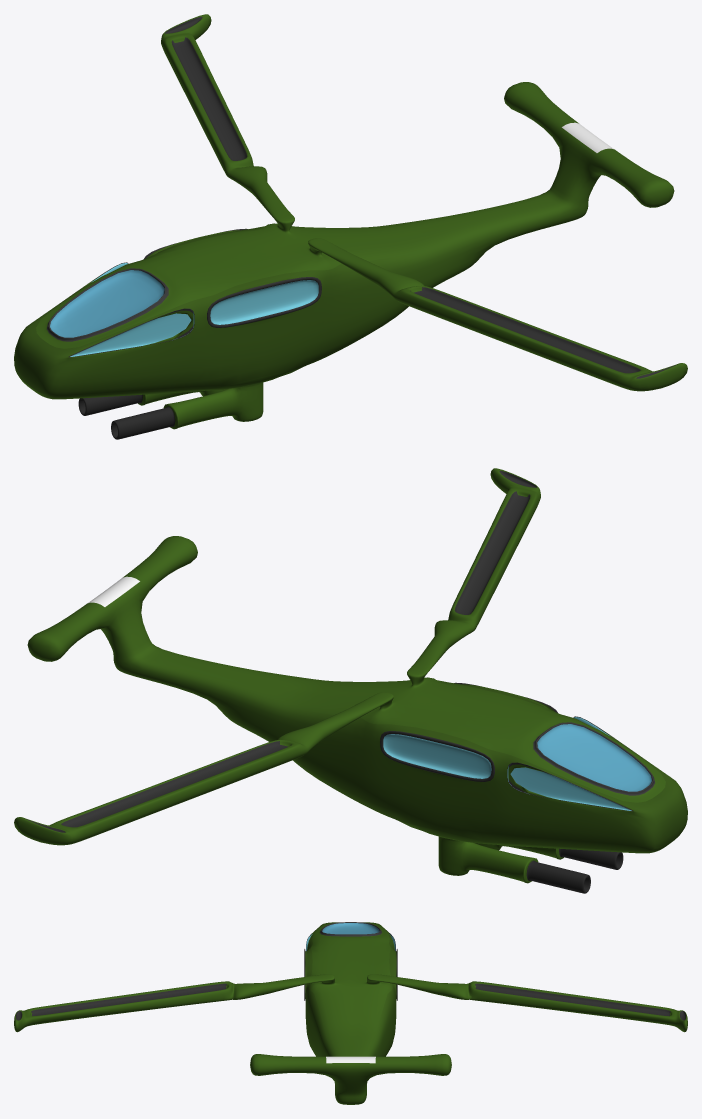
Rendered from styloo-planehelice-001.glb.
3 renders of one model, top to bottom at view 1: azimuth 30°, elevation 25°; view 2: azimuth 150°, elevation 25°; view 3: azimuth 270°, elevation 25°, orthographic. The views are drawn at different scales.
Visible parts, largest first — view 1: Cube.006; view 2: Cube.006; view 3: Cube.006.
Part boxes in pixels (x1,y1,x2,y2): Cube.006: (14,14,687,439); Cube.006: (14,468,687,893); Cube.006: (14,922,687,1104).
Size of the model in its own units: 7.96 by 2.46 by 11.42.
1 material, 1 textured.
